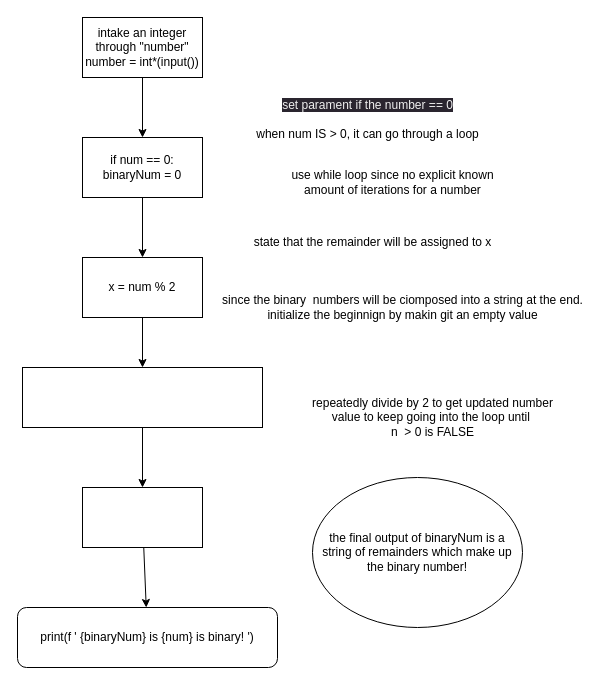
This 610x685 diagram has some shape labels left out. Here are the shapes that lost their labels. From the top down, the centre of each, then its label:
(x=142, y=397): while num > 0: x = n % 2 binaryNum = str(x) + binaryNum
(x=142, y=517): num = num // 2
